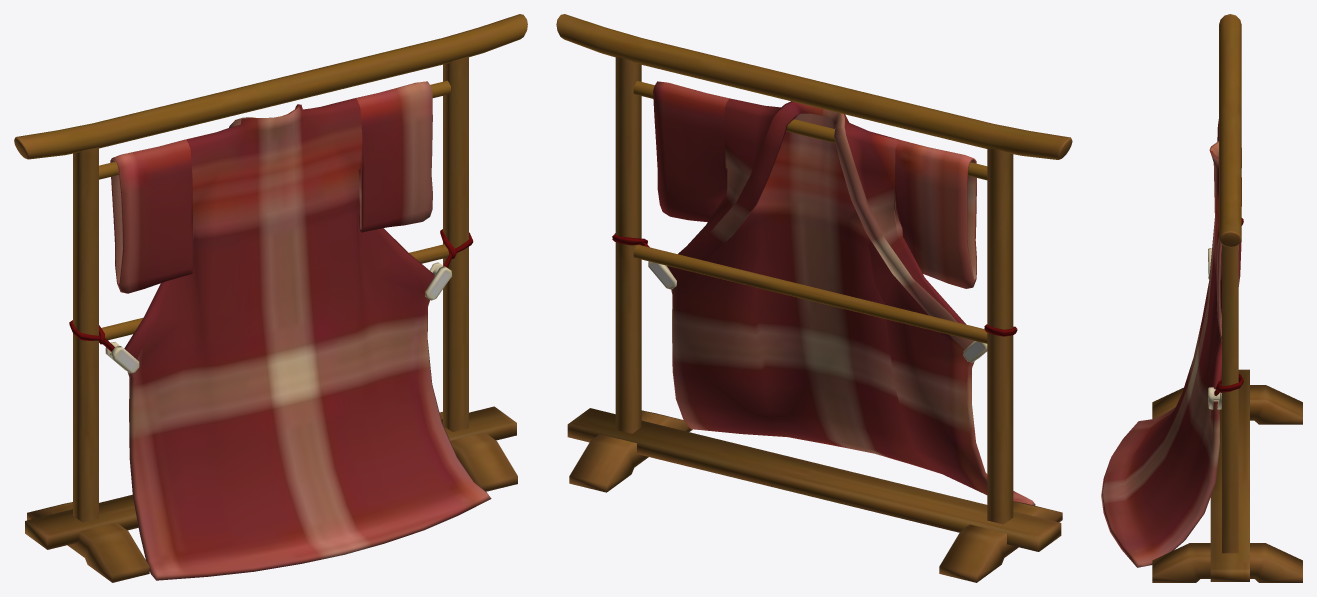
3 views of the same model, side by side, from view 1: azimuth 30°, elevation 25°; view 2: azimuth 150°, elevation 25°; view 3: azimuth 270°, elevation 25° (orthographic). The views are drawn at different scales.
Bounding box in the file's own units: 19.38 × 15.5 × 7.59.
Materials: 2 (2 with a texture image).
